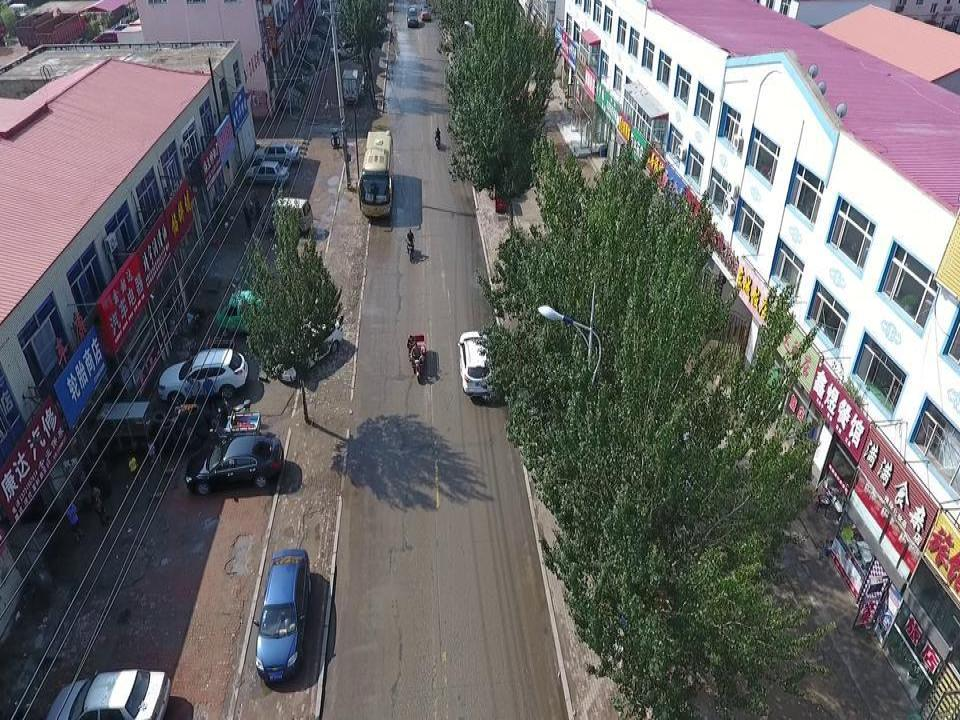bus: (357, 131, 393, 216)
car: (252, 548, 308, 681), (45, 668, 172, 720), (185, 438, 283, 498), (158, 349, 246, 403), (457, 329, 496, 395), (254, 144, 300, 165), (246, 161, 289, 183), (329, 39, 361, 60), (405, 5, 418, 27), (420, 5, 431, 22)
truck: (342, 68, 360, 104)
van: (214, 291, 275, 336), (262, 197, 313, 234)
